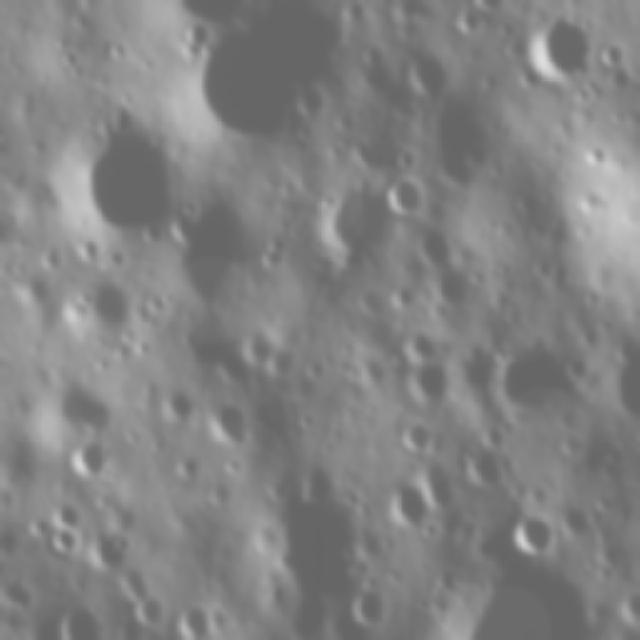crater: (180, 0, 352, 148), (49, 130, 182, 235), (314, 182, 400, 270), (524, 15, 611, 94), (30, 373, 119, 438), (490, 344, 564, 418), (73, 272, 132, 342), (383, 480, 439, 532), (379, 168, 433, 221), (403, 355, 457, 408), (508, 512, 558, 558), (343, 580, 388, 628), (410, 52, 453, 100), (458, 448, 502, 492), (50, 603, 101, 640), (212, 400, 256, 442), (398, 416, 434, 464), (62, 444, 110, 478), (174, 598, 208, 640), (297, 85, 334, 121), (117, 566, 152, 602), (162, 391, 192, 422), (182, 20, 210, 49), (51, 524, 78, 554), (363, 44, 392, 71), (54, 500, 78, 532), (135, 596, 162, 624), (602, 39, 626, 70), (26, 514, 51, 538)
